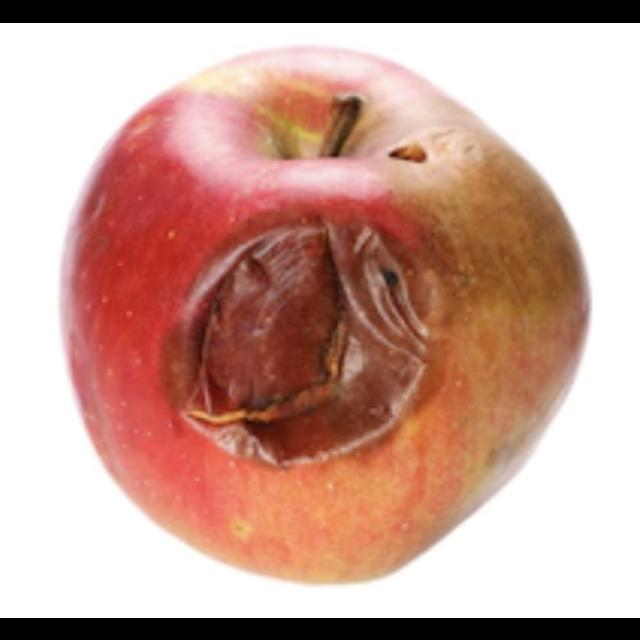Apel Tidak Segar: (54, 38, 596, 590)
